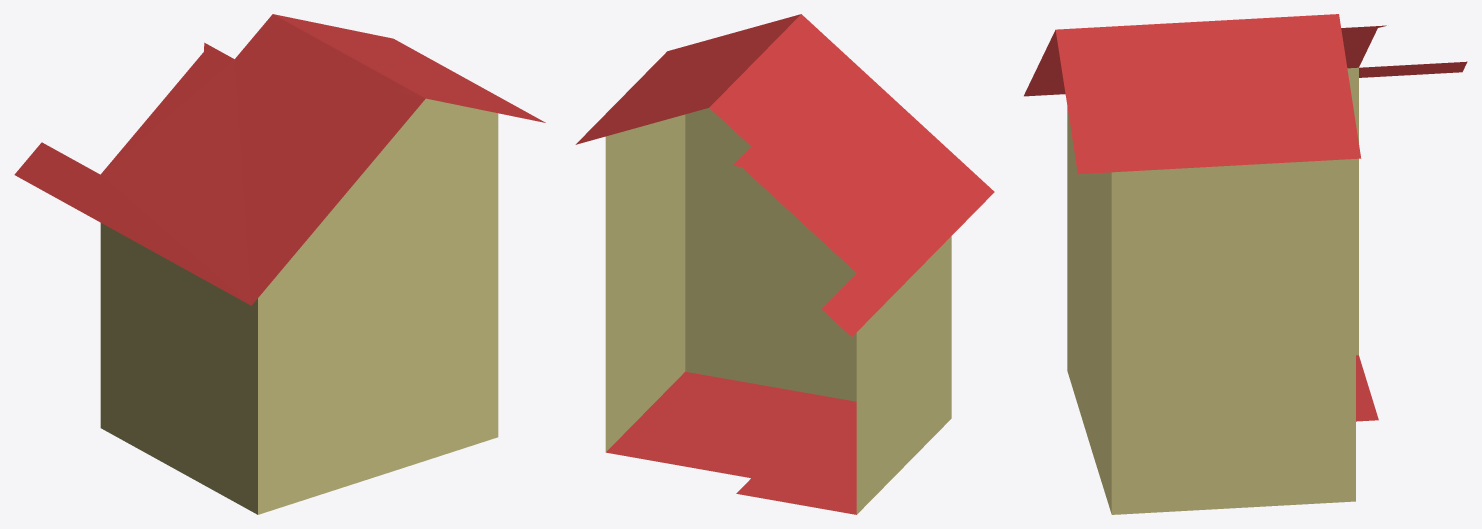
3 renders of one model, left to right at view 1: azimuth 30°, elevation 25°; view 2: azimuth 150°, elevation 25°; view 3: azimuth 270°, elevation 25°, orthographic. The views are drawn at different scales.
Size of the model in its own units: 12.1 by 11.31 by 12.12.
